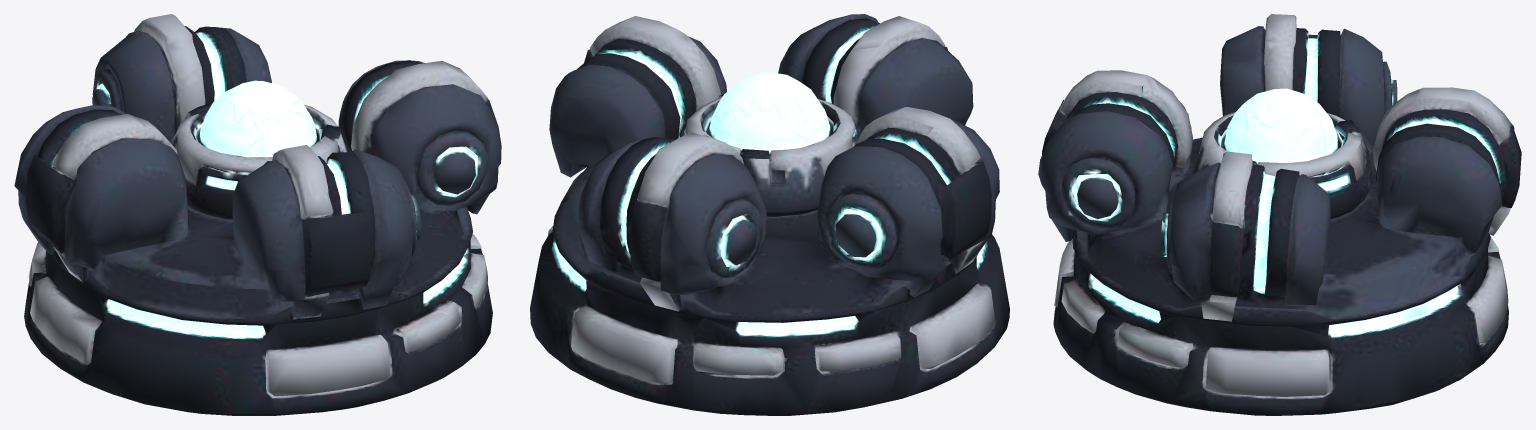
Rendered from warrior-3-tier-1.glb.
The picture shows the model from 3 angles, left to right: view 1: azimuth 30°, elevation 25°; view 2: azimuth 150°, elevation 25°; view 3: azimuth 270°, elevation 25°; orthographic projection. The views are drawn at different scales.
Parts seen in each view (by area): view 1: moving-assembly, fixed-platform; view 2: moving-assembly, fixed-platform; view 3: moving-assembly, fixed-platform.
Part boxes in pixels (bbox=[...]): moving-assembly: bbox=[14, 14, 501, 334]; fixed-platform: bbox=[24, 233, 492, 415]; moving-assembly: bbox=[549, 14, 999, 329]; fixed-platform: bbox=[530, 226, 1009, 415]; moving-assembly: bbox=[1038, 14, 1521, 336]; fixed-platform: bbox=[1053, 236, 1508, 415].
Bounding box in the file's own units: 0.8002 × 0.4231 × 0.8163.
1 material, 1 textured.
